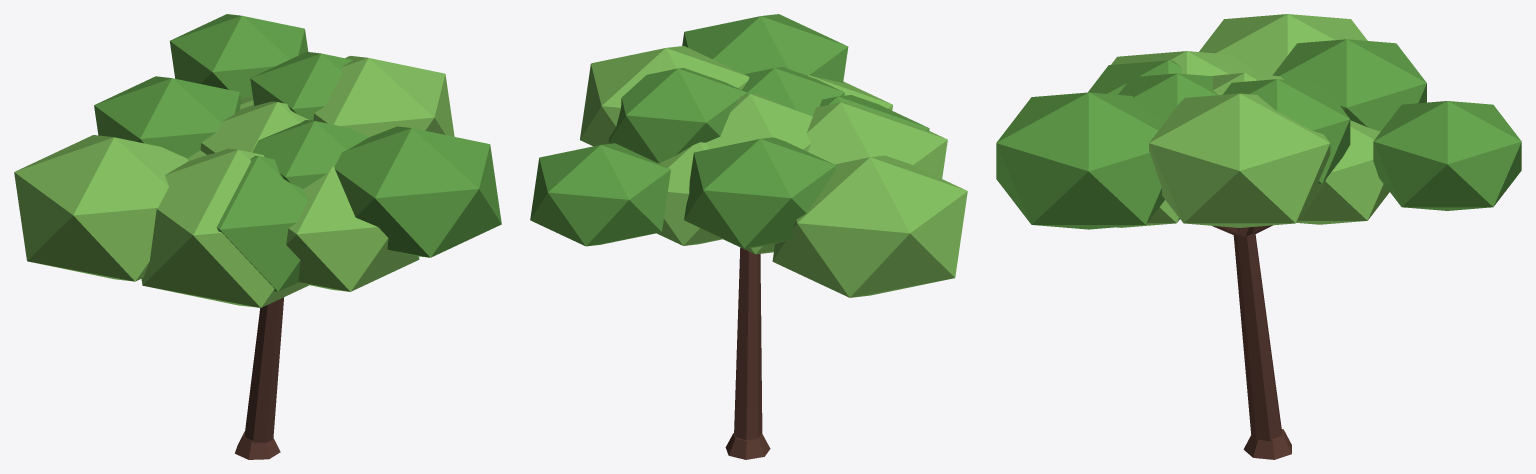
The model's file is GreenTree.fbx.
3 views of the same model, side by side, from view 1: azimuth 30°, elevation 25°; view 2: azimuth 150°, elevation 25°; view 3: azimuth 270°, elevation 25° (orthographic). The views are drawn at different scales.
Parts seen in each view (by area): view 1: GreenTree; view 2: GreenTree; view 3: GreenTree.
Part boxes in pixels (bbox=[...]): GreenTree: bbox=[14, 14, 501, 459]; GreenTree: bbox=[530, 14, 967, 459]; GreenTree: bbox=[996, 14, 1521, 459].
Size of the model in its own units: 6.56 by 6.02 by 7.02.
